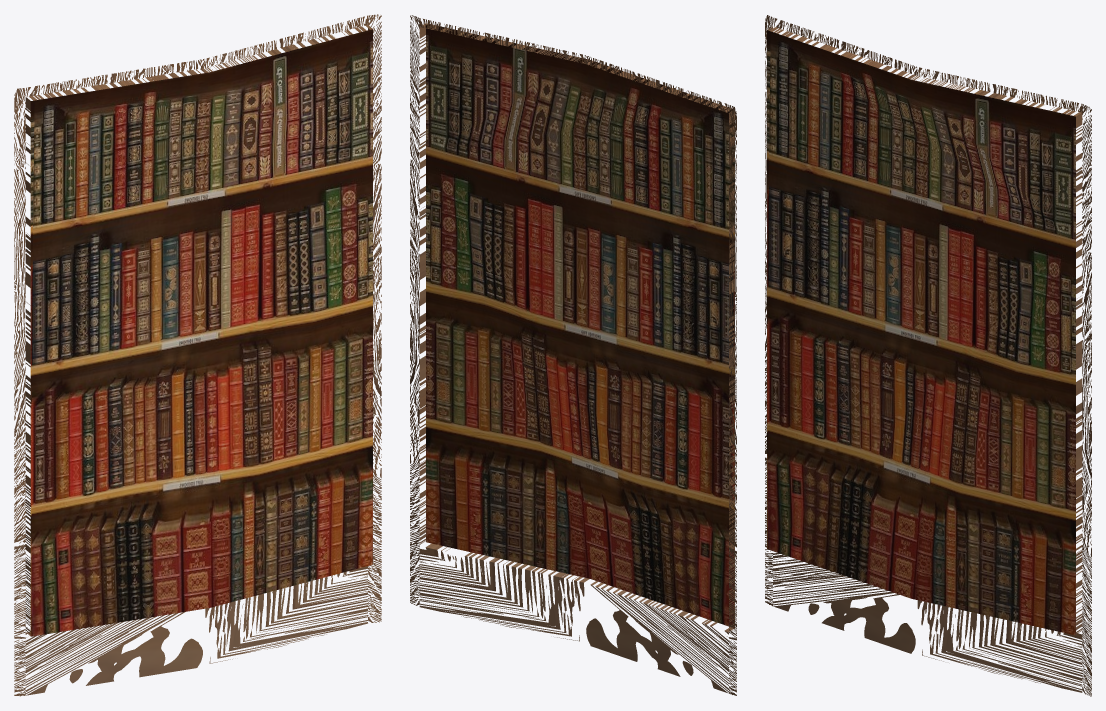
File: parete1.fbx
The picture shows the model from 3 angles, left to right: view 1: azimuth 30°, elevation 25°; view 2: azimuth 150°, elevation 25°; view 3: azimuth 330°, elevation 25°; orthographic projection. The views are drawn at different scales.
Parts seen in each view (by area): view 1: Circle.002; view 2: Circle.002; view 3: Circle.002.
Part boxes in pixels (<box>): Circle.002: <box>14,14,381,696</box>; Circle.002: <box>410,15,736,695</box>; Circle.002: <box>765,15,1091,696</box>.
Bounding box in the file's own units: 496 × 818 × 54.42.
